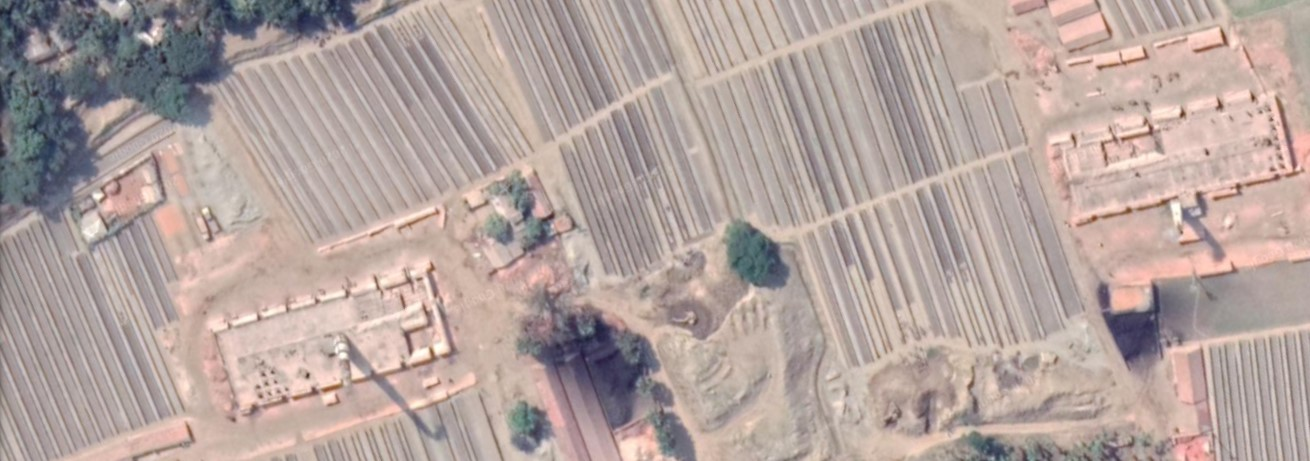kiln: (1055, 116, 1295, 276), (196, 293, 467, 419)
